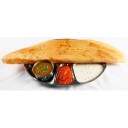dosa: (1, 36, 128, 64)
